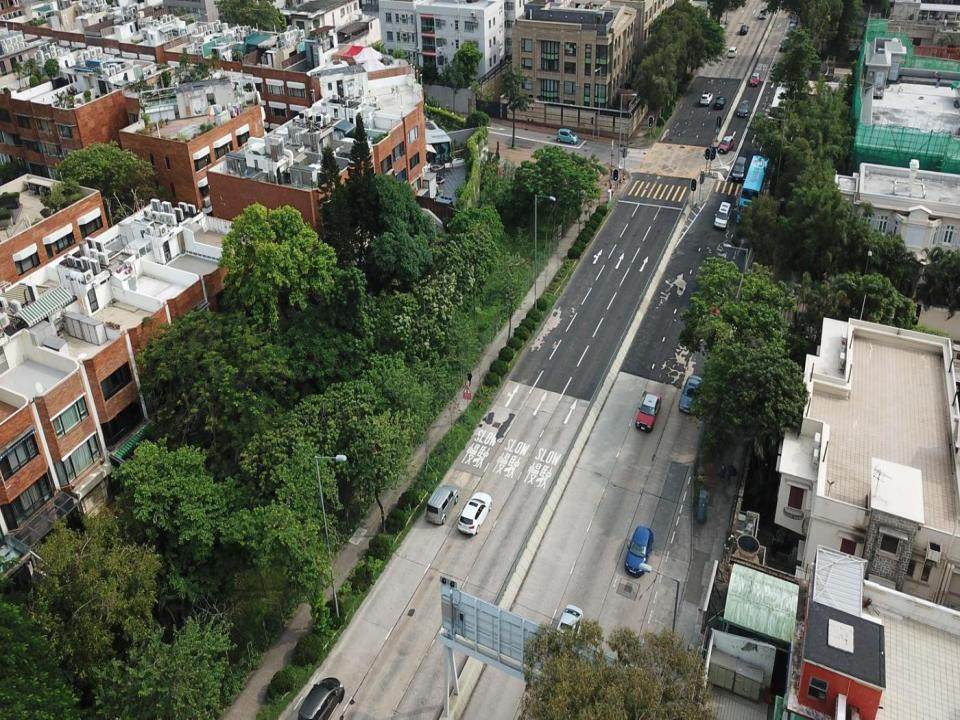bus: (736, 152, 768, 228), (766, 81, 790, 140)
car: (546, 604, 583, 660), (298, 678, 346, 719), (624, 526, 655, 578), (457, 494, 492, 536), (635, 393, 661, 435), (426, 487, 454, 525), (680, 374, 700, 417), (711, 284, 726, 317), (714, 200, 730, 229), (557, 126, 579, 144), (717, 133, 734, 152), (790, 14, 802, 39), (736, 99, 749, 115), (700, 91, 713, 105), (780, 35, 791, 50), (727, 45, 738, 59), (714, 94, 725, 108), (759, 5, 767, 22), (749, 72, 759, 85), (739, 23, 747, 38)
van: (731, 155, 749, 181)
